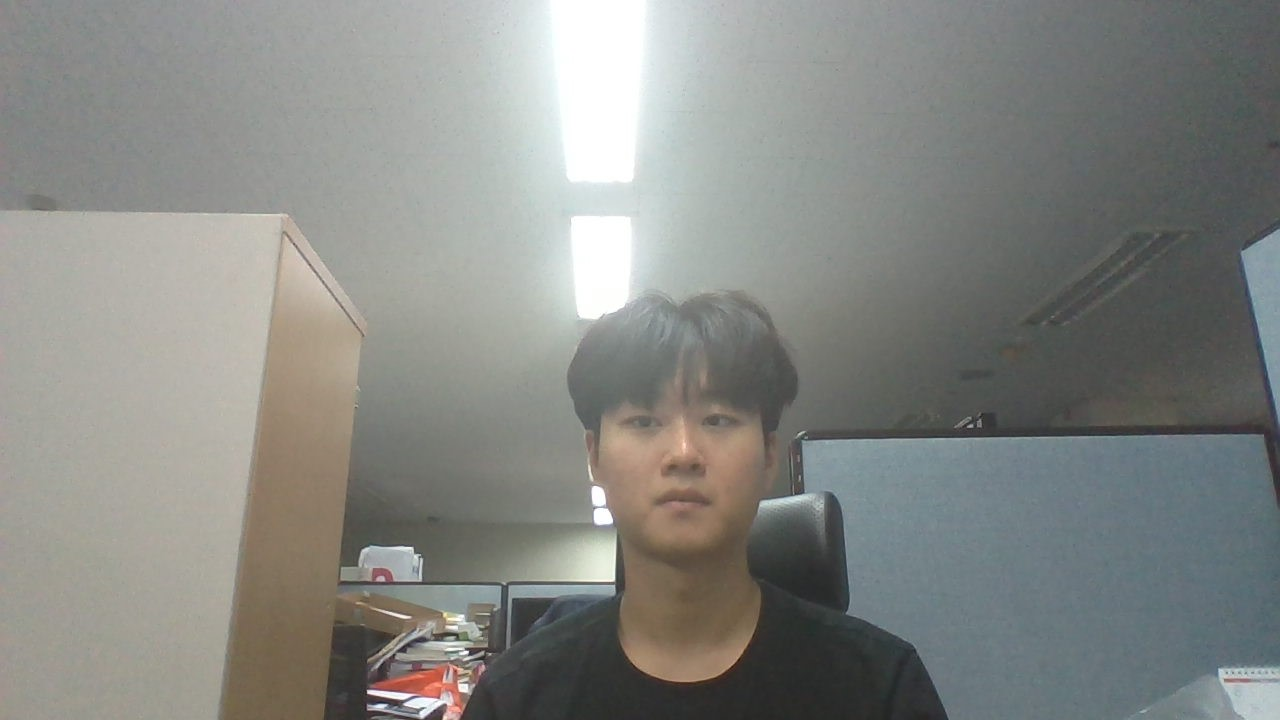Non-Helmet: (550, 274, 820, 590)
